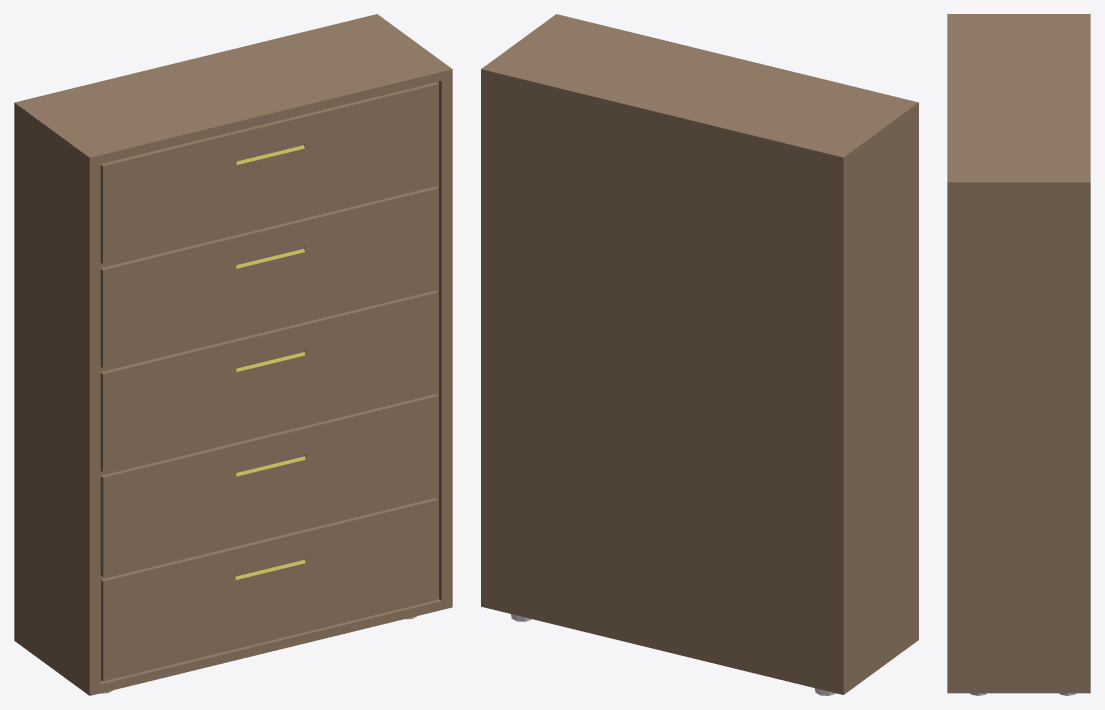
The model's file is cabinet.fbx.
3 renders of one model, left to right at view 1: azimuth 30°, elevation 25°; view 2: azimuth 150°, elevation 25°; view 3: azimuth 270°, elevation 25°, orthographic. The views are drawn at different scales.
Parts seen in each view (by area): view 1: cabinet; view 2: cabinet; view 3: cabinet.
Part boxes in pixels (x1,y1,x2,y2): cabinet: [14, 14, 452, 695]; cabinet: [481, 14, 918, 694]; cabinet: [947, 14, 1090, 693].
Bounding box in the file's own units: 138 × 201 × 49.82.
